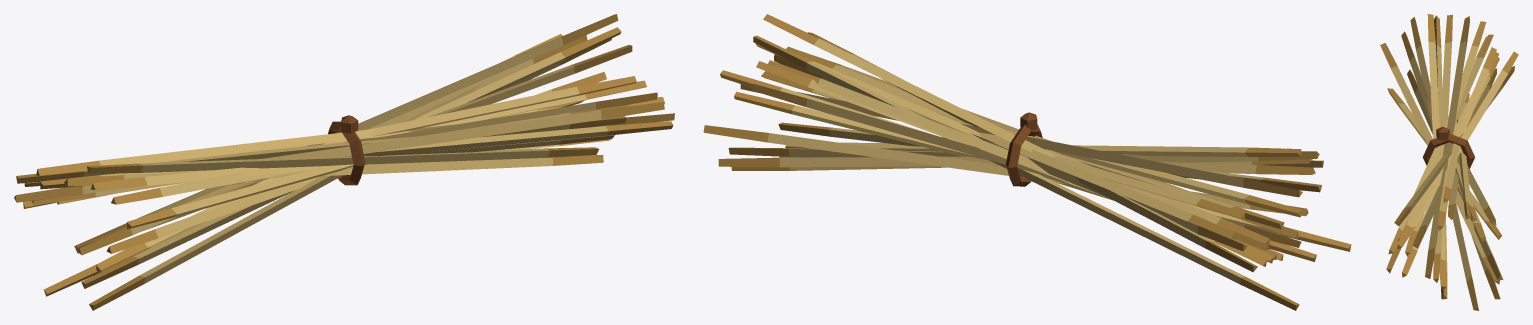
Rendered from straw_clump.glb.
3 renders of one model, left to right at view 1: azimuth 30°, elevation 25°; view 2: azimuth 150°, elevation 25°; view 3: azimuth 270°, elevation 25°, orthographic. The views are drawn at different scales.
Visible parts, largest first — view 1: straw_clump; view 2: straw_clump; view 3: straw_clump.
Part boxes in pixels (x1,y1,x2,y2): straw_clump: (14, 14, 674, 310); straw_clump: (703, 14, 1351, 310); straw_clump: (1380, 14, 1518, 310).
Size of the model in its own units: 0.3571 by 0.0883 by 0.0945.
